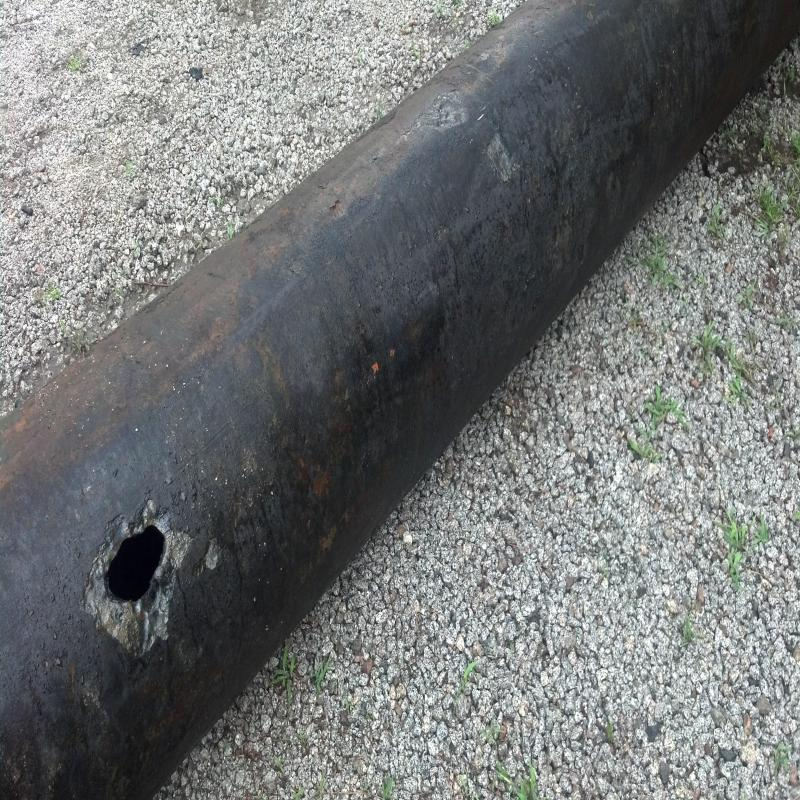Fracture: (101, 522, 174, 606)
